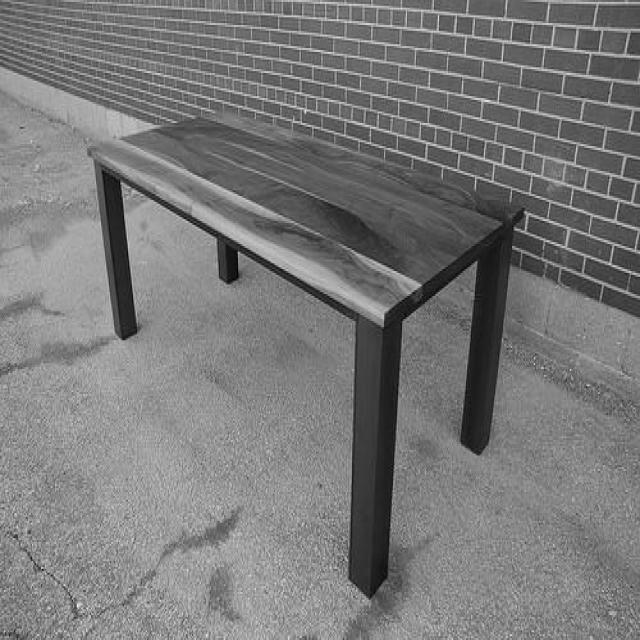table: (85, 111, 528, 602)
